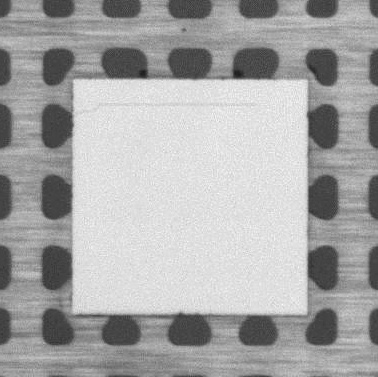DIE_CRACK: (74, 101, 258, 115)
